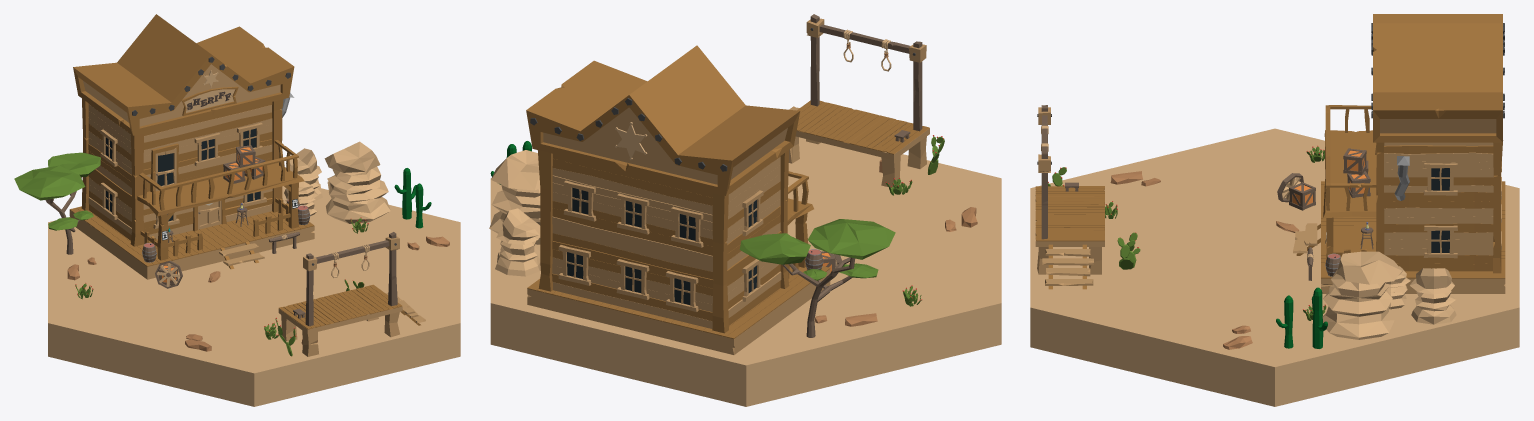
File: Tile_3.fbx
3 views of the same model, side by side, from view 1: azimuth 30°, elevation 25°; view 2: azimuth 150°, elevation 25°; view 3: azimuth 270°, elevation 25° (orthographic). The views are drawn at different scales.
Parts seen in each view (by area): view 1: Tile_3_Base, Tile_3_Sheriff_building, Tile_3, Tile_3_Platform, Tile_3_Gallows, Tile_3_Tree, Tile_3_signboard, Tile_3_wheel; view 2: Tile_3_Sheriff_building, Tile_3_Base, Tile_3_Gallows, Tile_3, Tile_3_Platform, Tile_3_Tree; view 3: Tile_3_Base, Tile_3_Sheriff_building, Tile_3, Tile_3_Gallows, Tile_3_Platform.
Boxes of the visible parts, x1,y1,x2,y2 form: Tile_3_Base: (48,186,460,406); Tile_3_Sheriff_building: (73,14,304,260); Tile_3: (67,141,449,356); Tile_3_Platform: (69,203,314,279); Tile_3_Gallows: (278,232,425,356); Tile_3_Tree: (14,152,100,254); Tile_3_signboard: (181,86,238,115); Tile_3_wheel: (155,260,182,288); Tile_3_Sheriff_building: (526,45,813,333); Tile_3_Base: (490,137,1001,406); Tile_3_Gallows: (788,14,929,187); Tile_3: (489,135,977,326); Tile_3_Platform: (527,266,830,354); Tile_3_Tree: (739,219,895,337); Tile_3_Base: (1030,128,1519,406); Tile_3_Sheriff_building: (1323,14,1504,273); Tile_3: (1048,145,1456,349); Tile_3_Gallows: (1035,105,1104,289); Tile_3_Platform: (1293,181,1505,293).
Bounding box in the file's own units: 2318 × 2007 × 1192.
